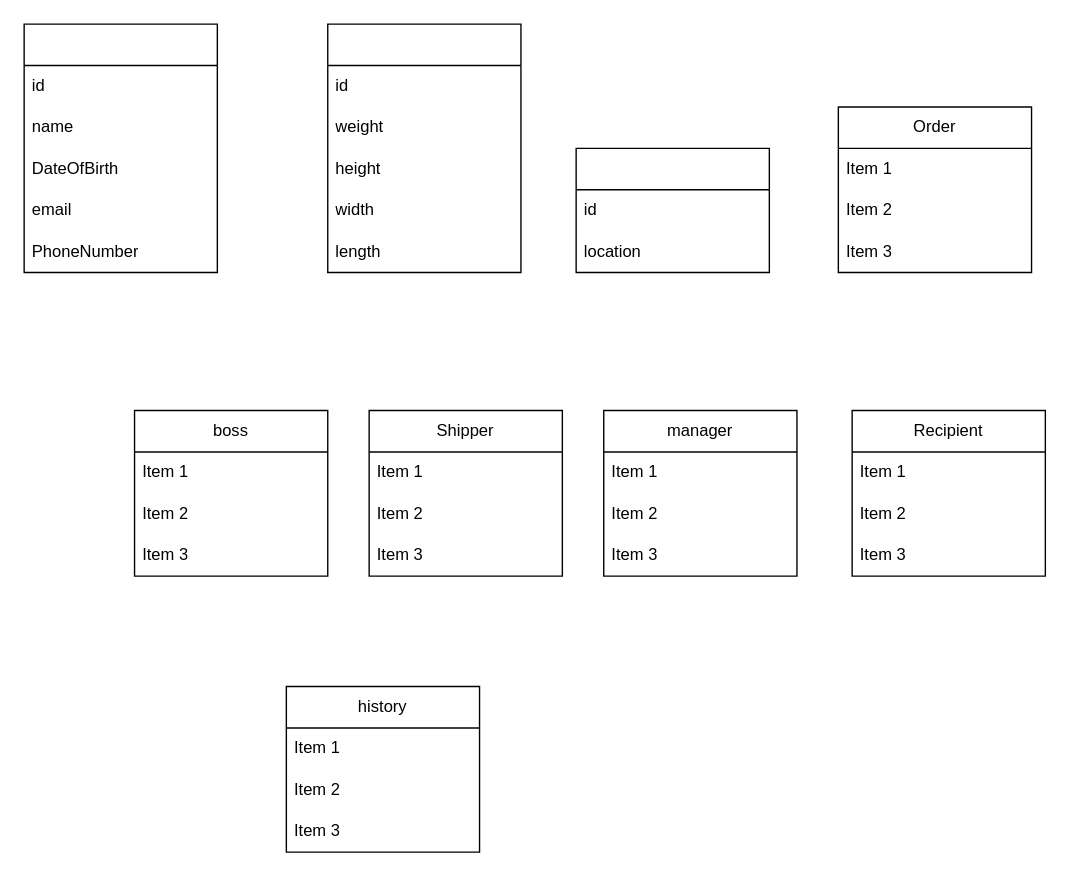
The diagram is 1070 pixels wide and 876 high, and some of its shapes have lost their labels. The box of each missing label's shape, as (x1, y1, x2, y2) in pixels:
package: (326, 23, 521, 273)
Post Office: (575, 147, 769, 273)
user: (23, 23, 217, 273)
